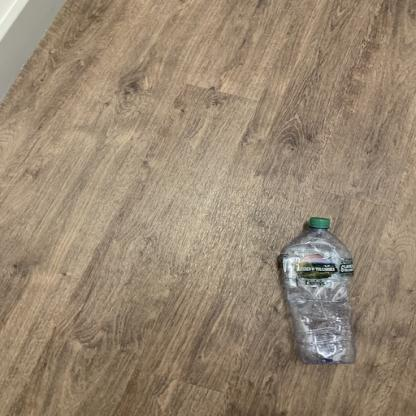trash: (280, 215, 362, 365)
